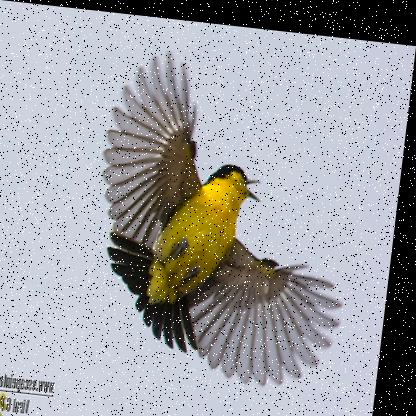Burung: (88, 45, 371, 384)
